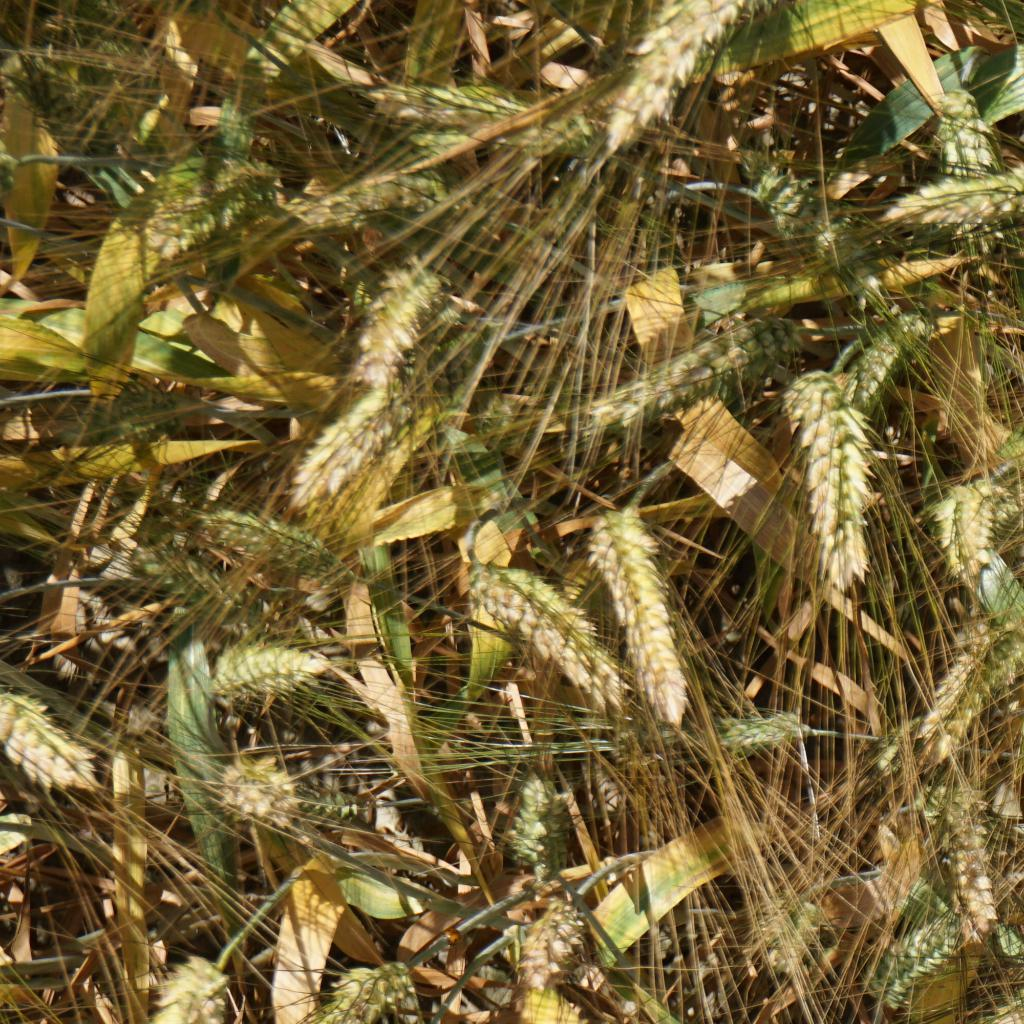0-0: (460, 557, 637, 715), (585, 2, 720, 165), (587, 504, 689, 706), (366, 73, 604, 155), (124, 154, 286, 273), (781, 378, 877, 564), (582, 323, 770, 401), (201, 501, 364, 588), (329, 265, 451, 380), (15, 43, 117, 165), (0, 694, 111, 805), (192, 636, 360, 705), (295, 388, 396, 498), (213, 745, 319, 847), (260, 948, 402, 1024), (109, 947, 237, 1024), (749, 174, 848, 268), (121, 541, 240, 617), (936, 98, 998, 229), (292, 953, 398, 1024), (889, 175, 1024, 229), (664, 705, 799, 759), (861, 923, 950, 997), (932, 481, 996, 581), (82, 379, 193, 435), (849, 322, 928, 399), (513, 771, 573, 871), (344, 159, 448, 216), (914, 659, 975, 756), (748, 888, 810, 970), (947, 830, 1001, 923), (518, 904, 578, 987), (976, 623, 1024, 722), (291, 787, 387, 829), (916, 776, 985, 823), (979, 470, 1023, 541), (467, 395, 517, 447), (865, 722, 909, 779)
